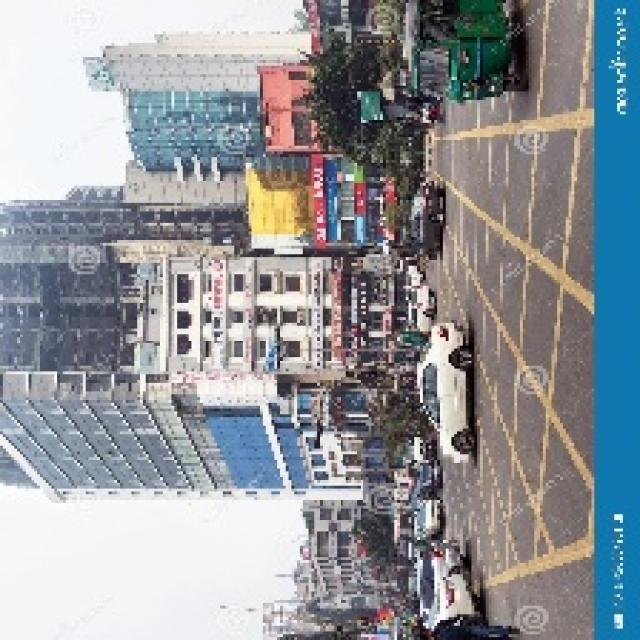car: (410, 311, 487, 472), (400, 170, 447, 265), (409, 494, 449, 539)
